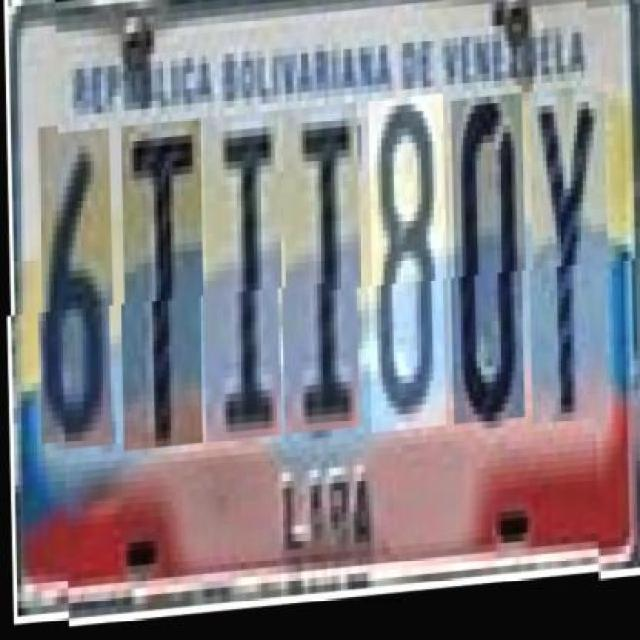0: (450, 103, 527, 434)
6: (37, 130, 114, 452)
8: (368, 103, 448, 440)
i: (202, 116, 282, 447), (281, 109, 361, 440)
t: (120, 122, 205, 453)
y: (529, 97, 609, 435)
